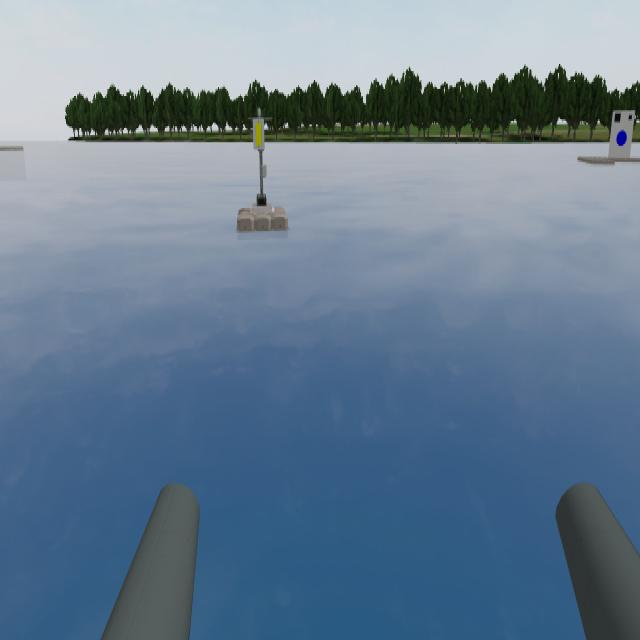yellow_pole: (247, 103, 274, 156)
